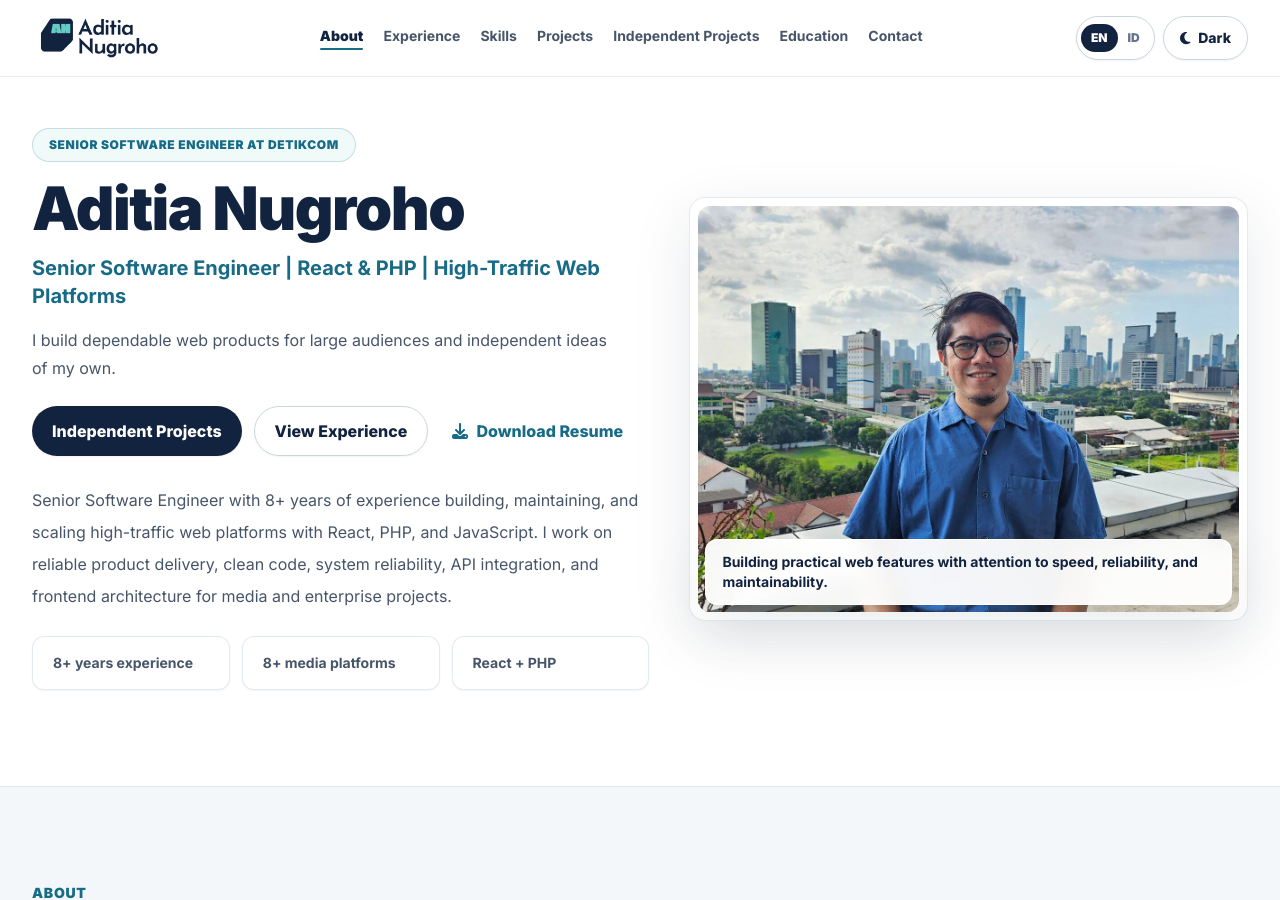
it: switches portfolio copy between English and Indonesian
Click the button with aria-label "switch between english and indonesian" at (1115, 38), box [1076, 16, 1155, 60]
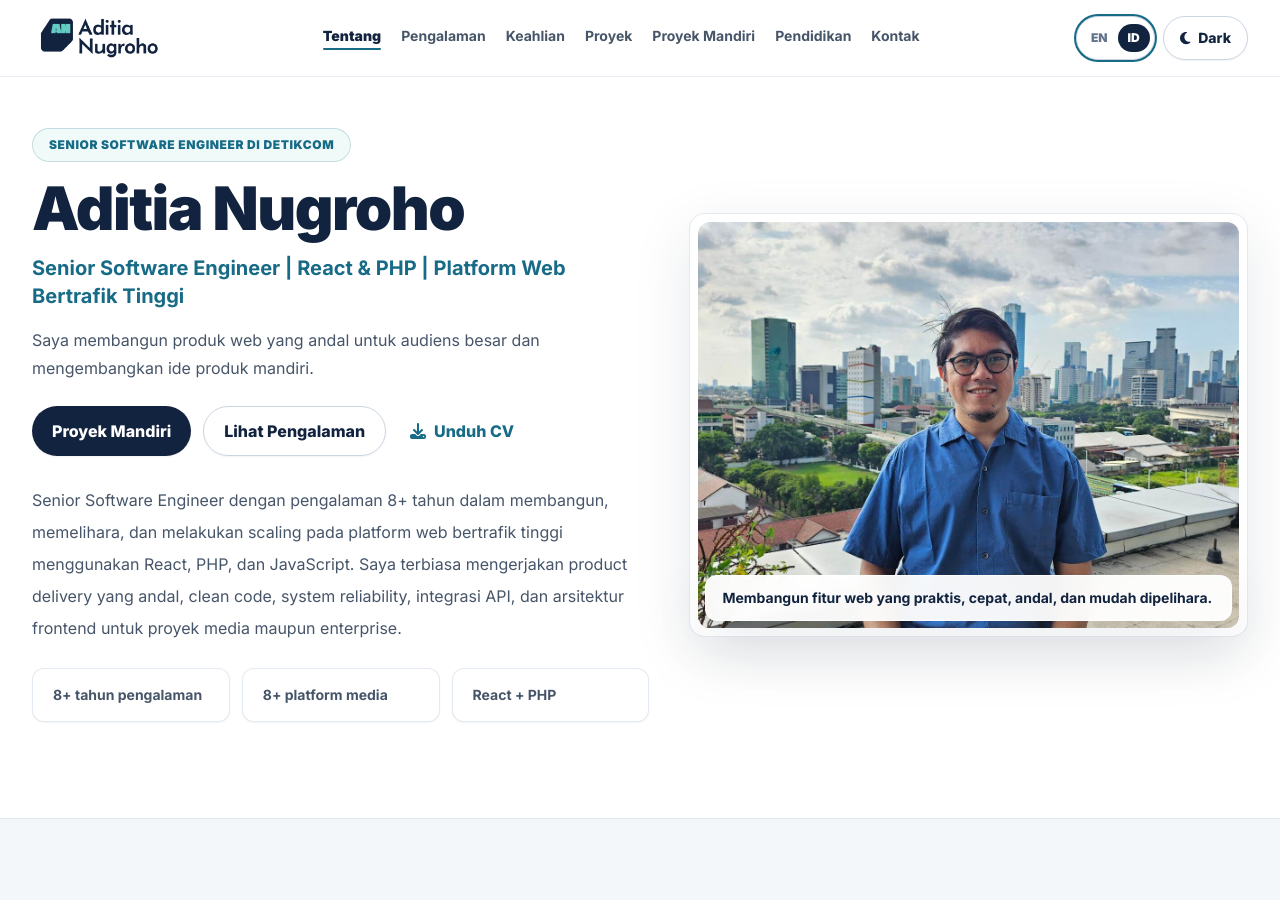
Result: the link "Lihat Pengalaman" is shown at [203, 406, 386, 456]
